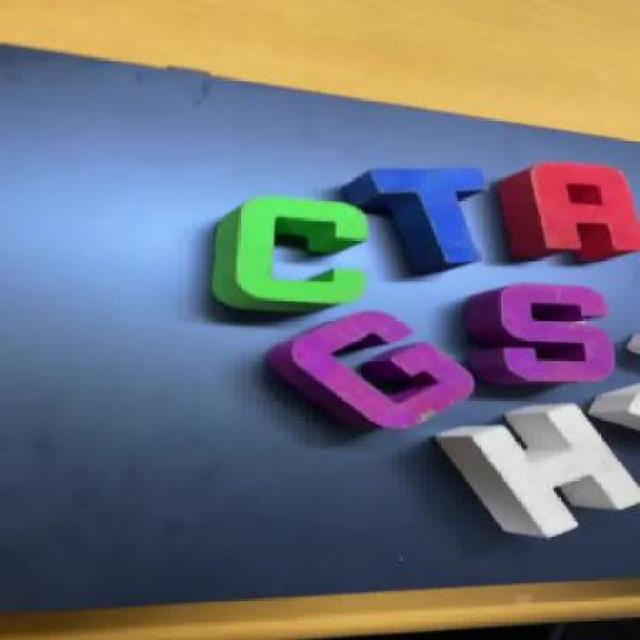A: (490, 161, 639, 273)
C: (208, 195, 366, 319)
G: (272, 318, 477, 439)
H: (428, 403, 640, 545)
S: (483, 283, 614, 391)
T: (329, 164, 496, 276)
